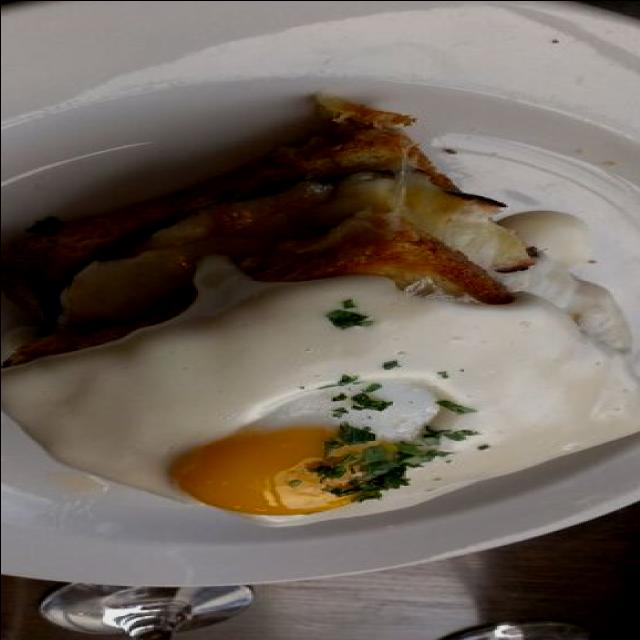telur ceplok: (0, 252, 640, 525)
